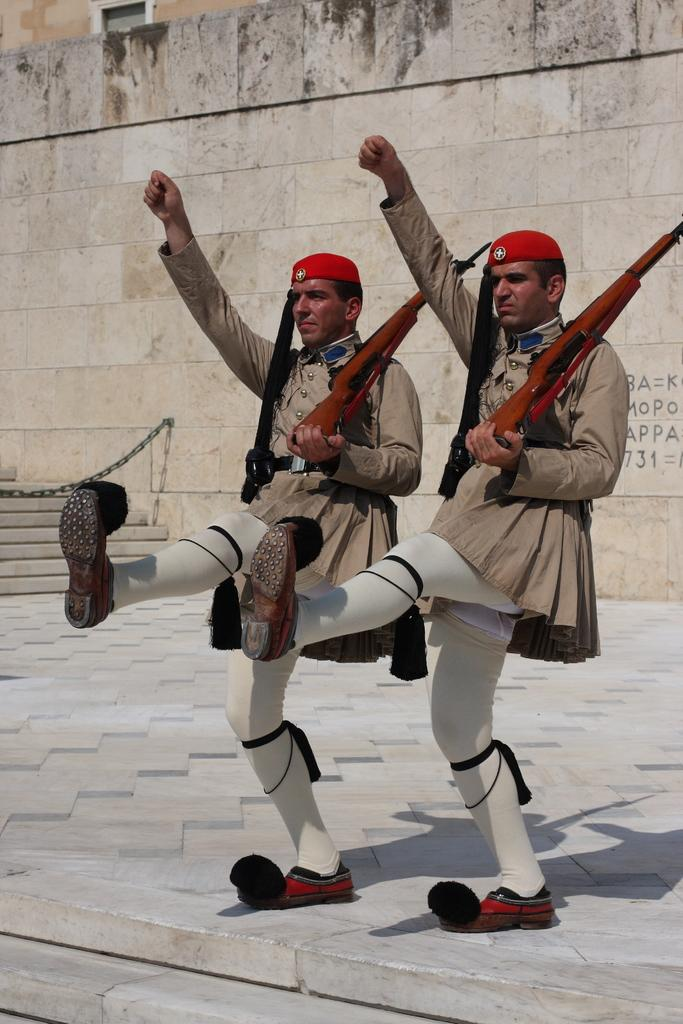Rifle: (481, 214, 682, 452), (290, 239, 495, 449)
